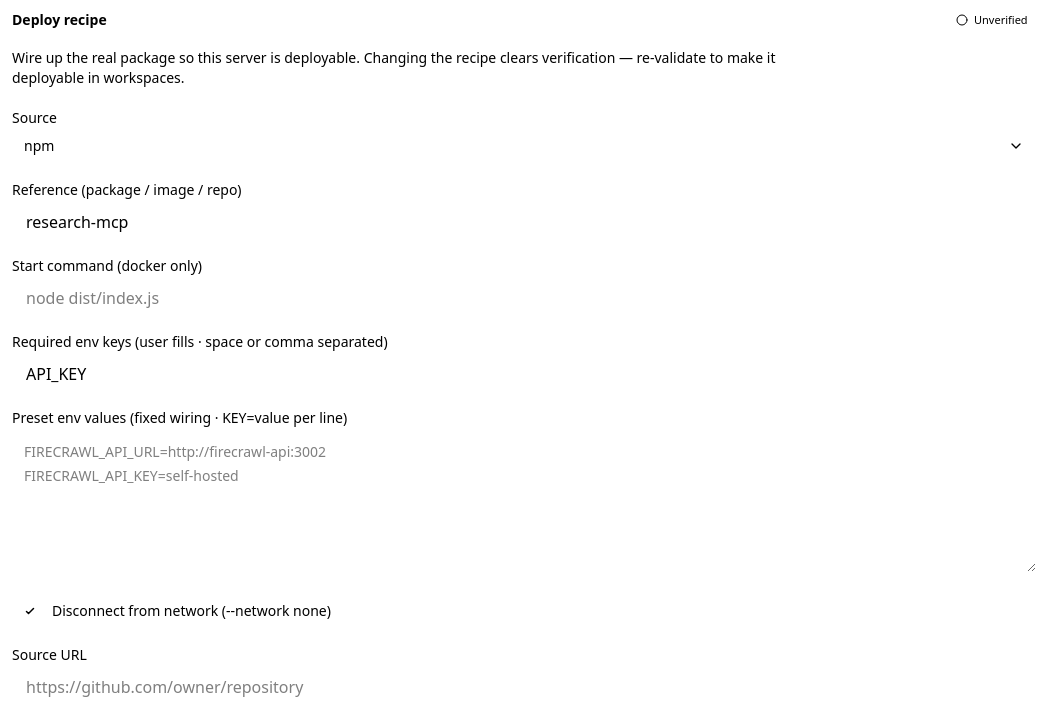
Scenario: recipe validation freshness › keeps validation disabled when saving changed configuration fails
Type "https://github.com/acme/changed" into the field labelled "Source URL" at coordinates (524, 687), box [12, 665, 1036, 709]
(page scrolled)
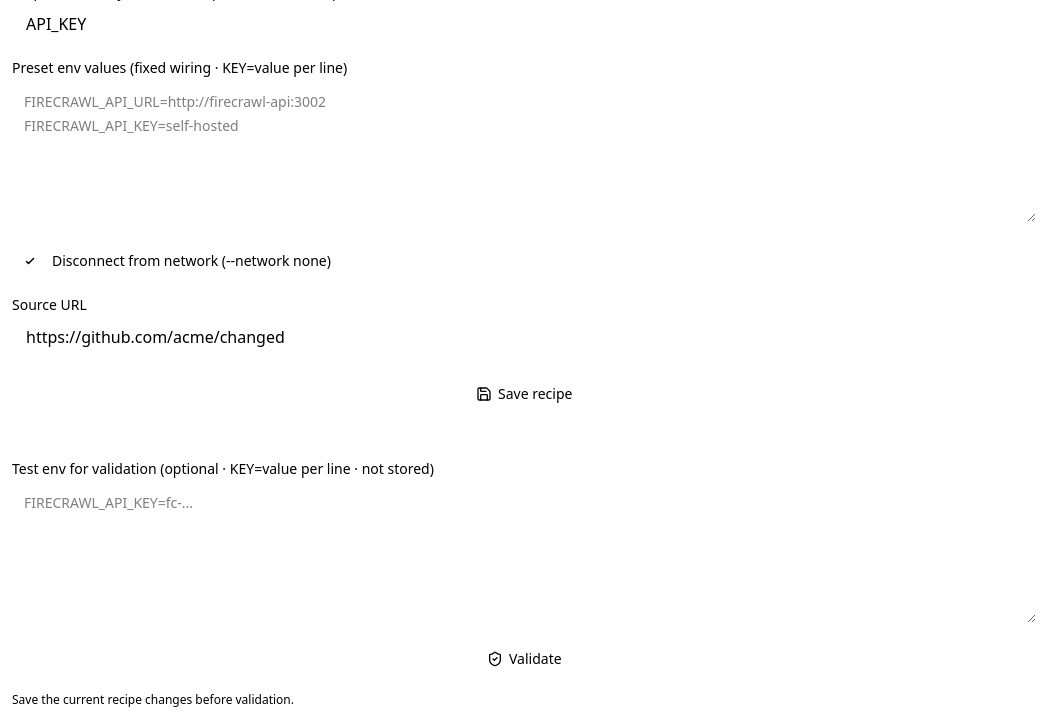
Click the button "Save recipe" at coordinates (524, 395), box [12, 375, 1036, 415]
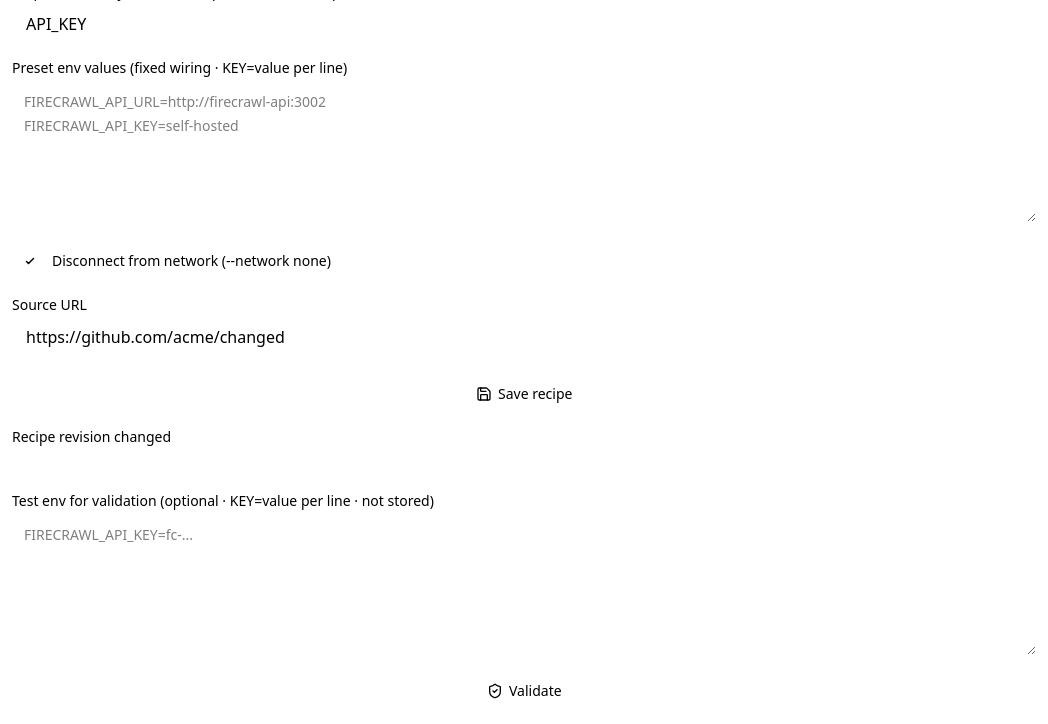
Expected: the button "Validate" is disabled, [12, 672, 1036, 712]
Expected: the message "Recipe revision changed" is shown, [12, 427, 171, 447]
